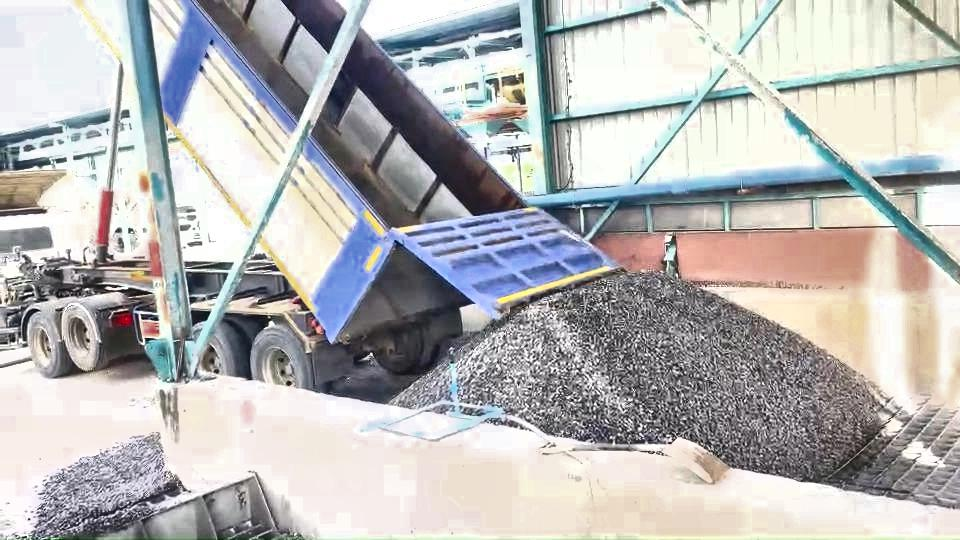gravel: (454, 273, 889, 480), (31, 433, 182, 536), (393, 362, 449, 407)
